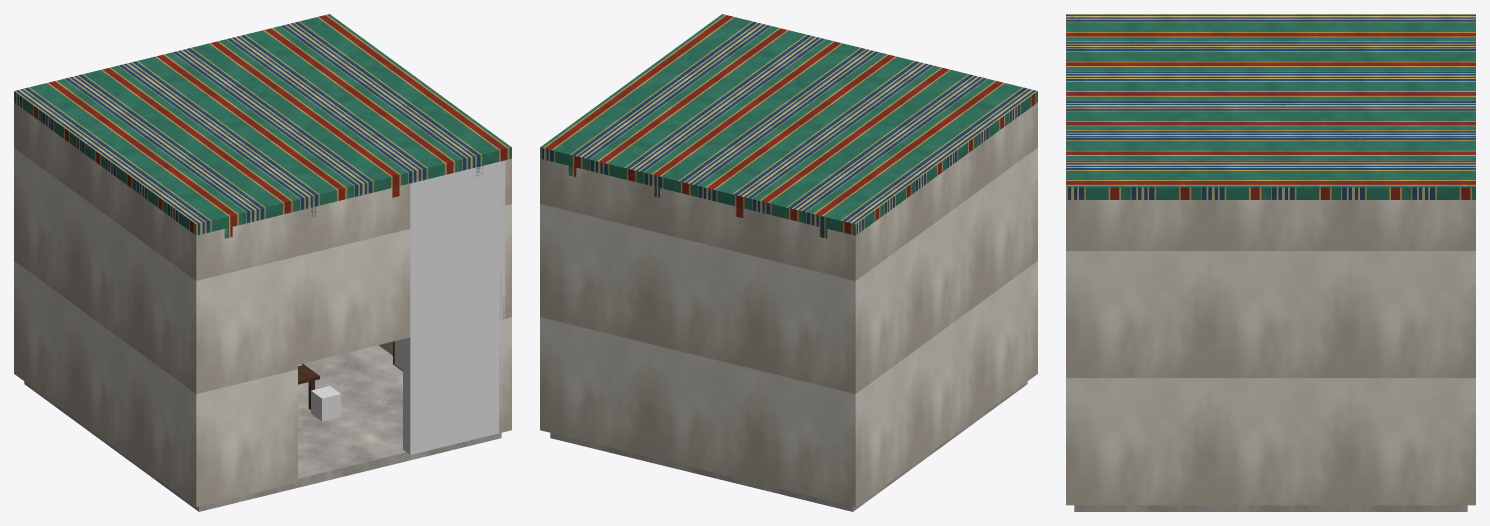
The model's file is scripture_pavilion.glb.
The picture shows the model from 3 angles, left to right: view 1: azimuth 30°, elevation 25°; view 2: azimuth 150°, elevation 25°; view 3: azimuth 270°, elevation 25°; orthographic projection. The views are drawn at different scales.
Visible parts, largest first — view 1: Walls, Ceiling, ShellFront-convcolonly.001, Floor, StoolCol-convcolonly.003; view 2: Walls, Ceiling, Floor; view 3: Walls, Ceiling, Floor.
Boxes of the visible parts, bbox=[...] form: Walls: bbox=[14, 102, 511, 507]; Ceiling: bbox=[14, 14, 511, 238]; ShellFront-convcolonly.001: bbox=[403, 160, 505, 454]; Floor: bbox=[24, 345, 501, 511]; StoolCol-convcolonly.003: bbox=[311, 386, 340, 421]; Walls: bbox=[540, 102, 1037, 507]; Ceiling: bbox=[540, 14, 1037, 238]; Floor: bbox=[550, 381, 1027, 511]; Walls: bbox=[1066, 200, 1475, 505]; Ceiling: bbox=[1066, 14, 1475, 199]; Floor: bbox=[1074, 505, 1467, 511].
Size of what is drawn, in the model's own units: 7.3 by 6.45 by 7.3.
Materials: 7 (6 with a texture image).
